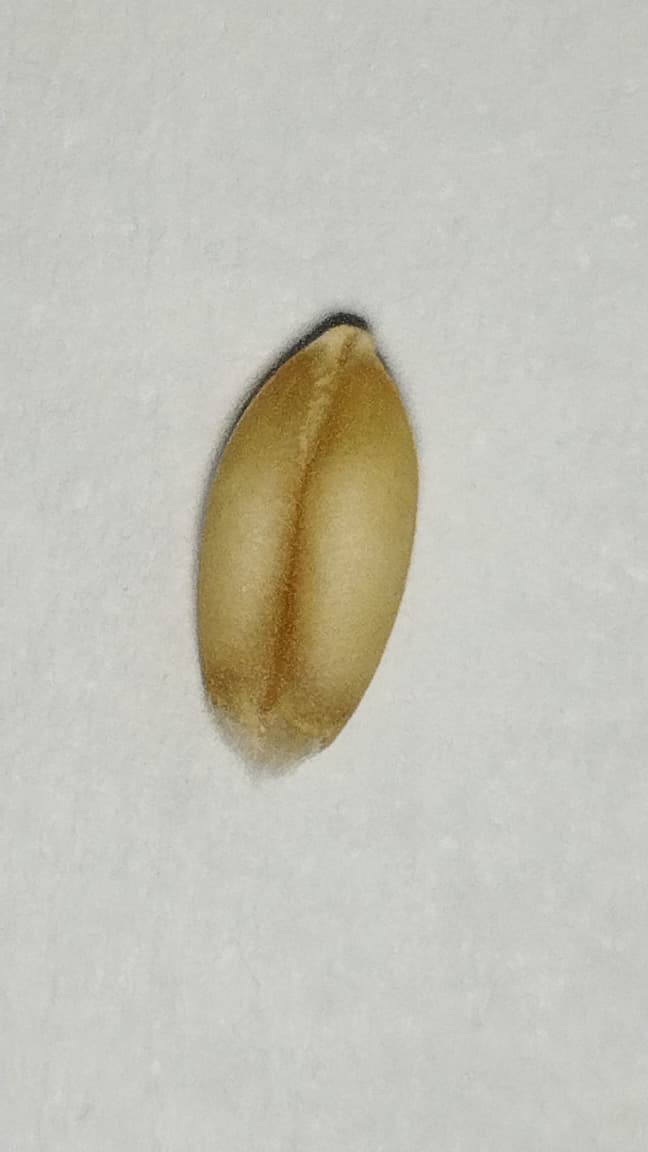healthy: (198, 325, 415, 772)
